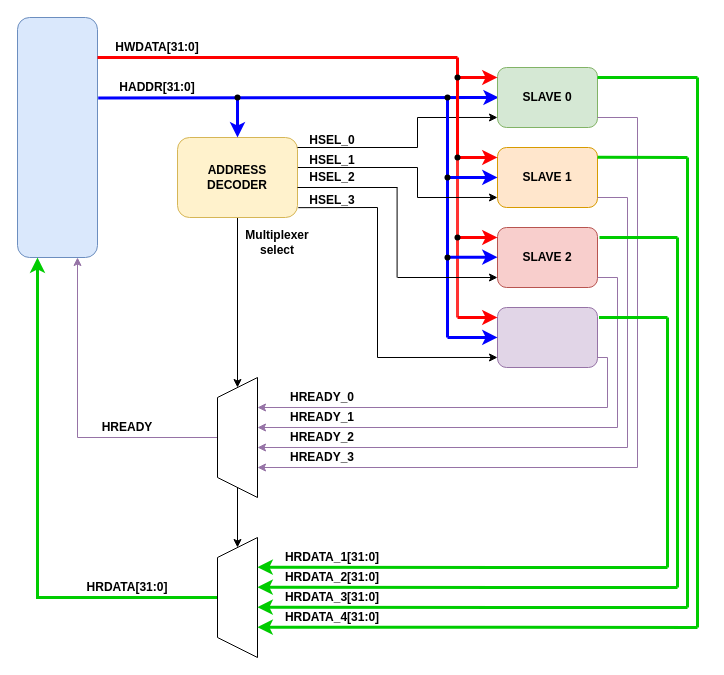
This 724x675 diagram has some shape labels left out. The centre of each missing label's shape, as x and y in pixels:
"MASTER" belongs at (x=57, y=137).
"SLAVE 3" belongs at (x=547, y=337).
